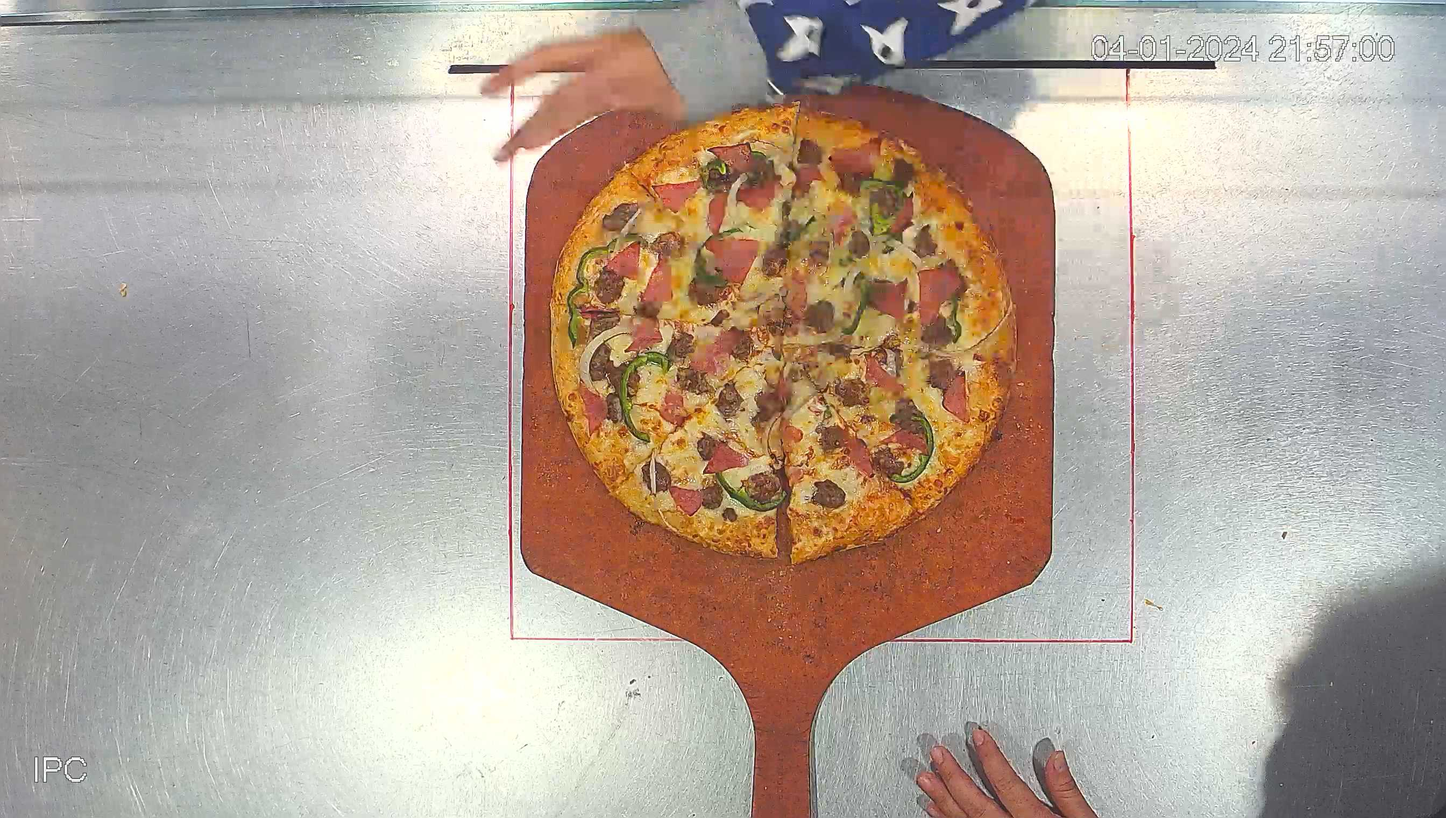hawaiian: (550, 99, 1017, 565)
